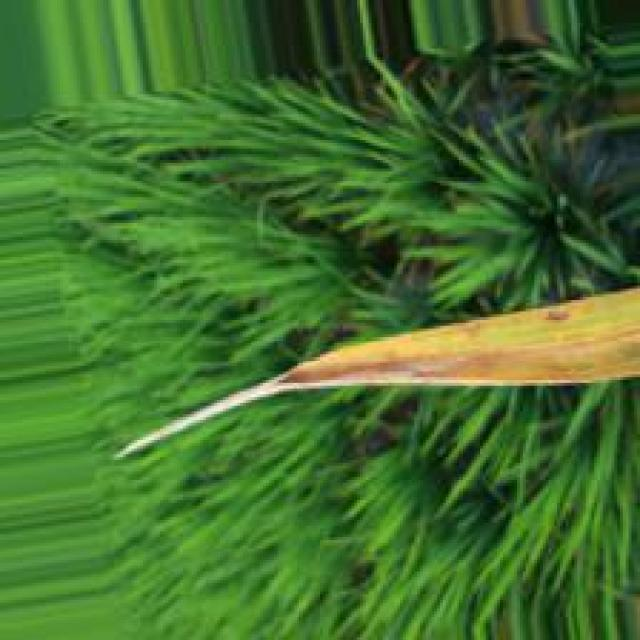Bacterial_Leaf_Blight: (280, 289, 639, 384)
